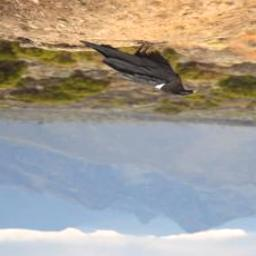Crow: (76, 38, 198, 98)
